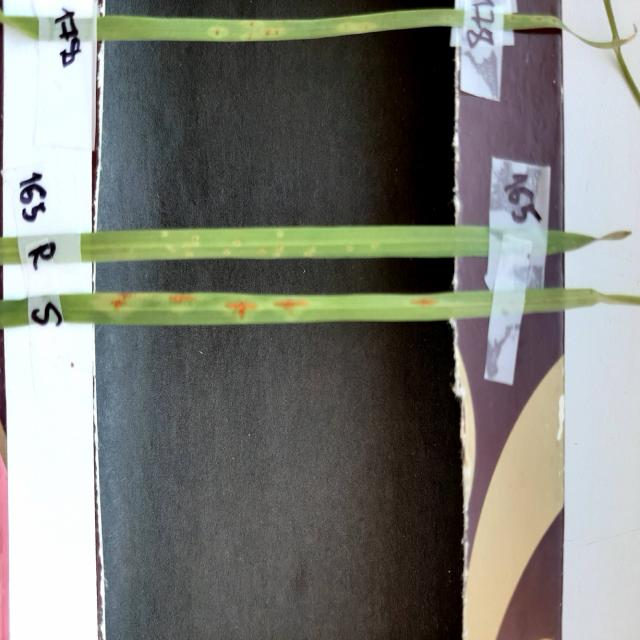wheat-stemrust: (227, 301, 258, 322), (277, 300, 306, 315), (111, 294, 130, 310), (169, 294, 194, 304), (411, 300, 437, 306), (210, 29, 223, 37), (266, 30, 280, 36), (247, 20, 256, 27)
